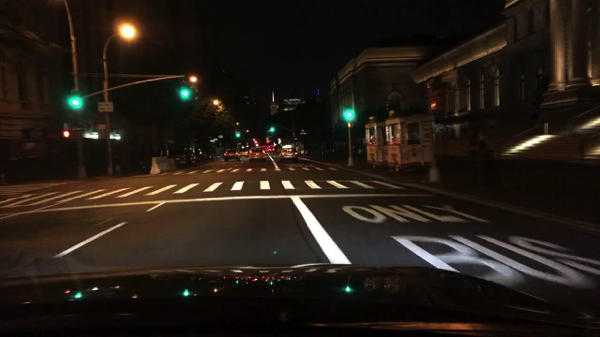car: (168, 148, 198, 168), (279, 147, 299, 162), (223, 148, 241, 162), (249, 148, 266, 161), (239, 149, 248, 156), (266, 147, 276, 152), (260, 147, 267, 153)
person: (320, 141, 327, 162)
traffic light: (70, 89, 79, 111), (180, 85, 189, 100), (345, 108, 352, 120), (63, 131, 70, 139), (235, 131, 241, 139), (269, 125, 274, 133)
traffic sign: (99, 103, 114, 113), (97, 123, 104, 131), (217, 134, 223, 140), (277, 138, 281, 145), (209, 139, 216, 143)
